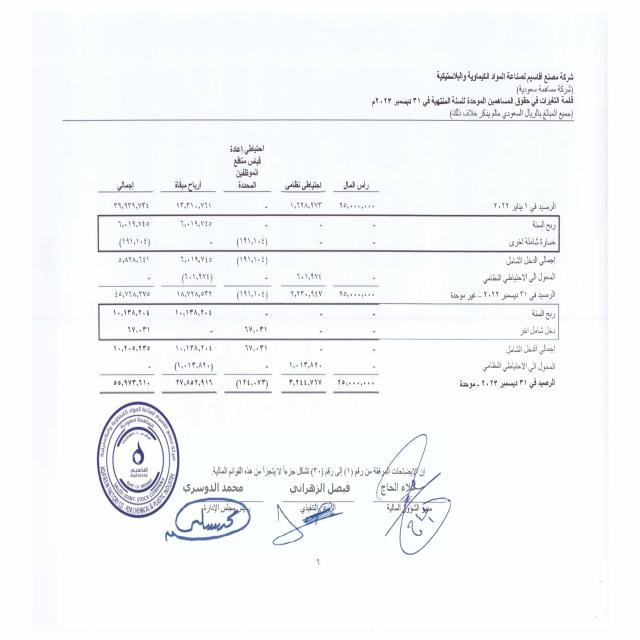financial_sheets: (468, 90, 574, 110)
table: (76, 144, 582, 412)
